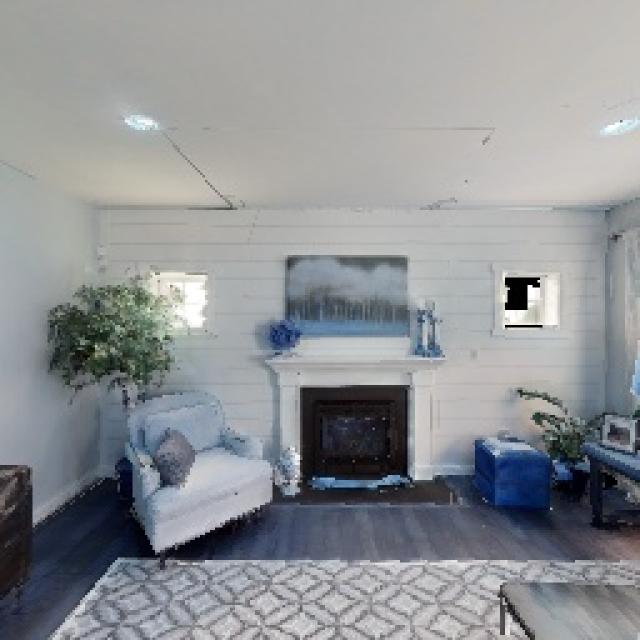sofa: (120, 370, 300, 582)
